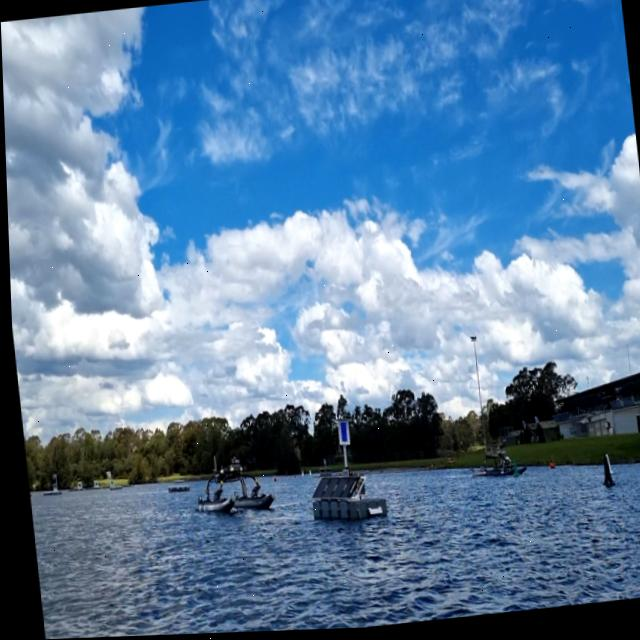led: (335, 423, 345, 446)
